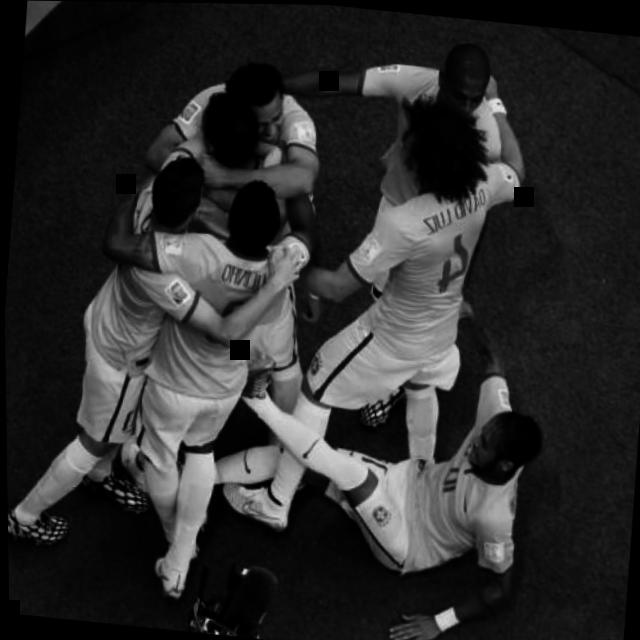Fall-Detected: (202, 272, 566, 640)
